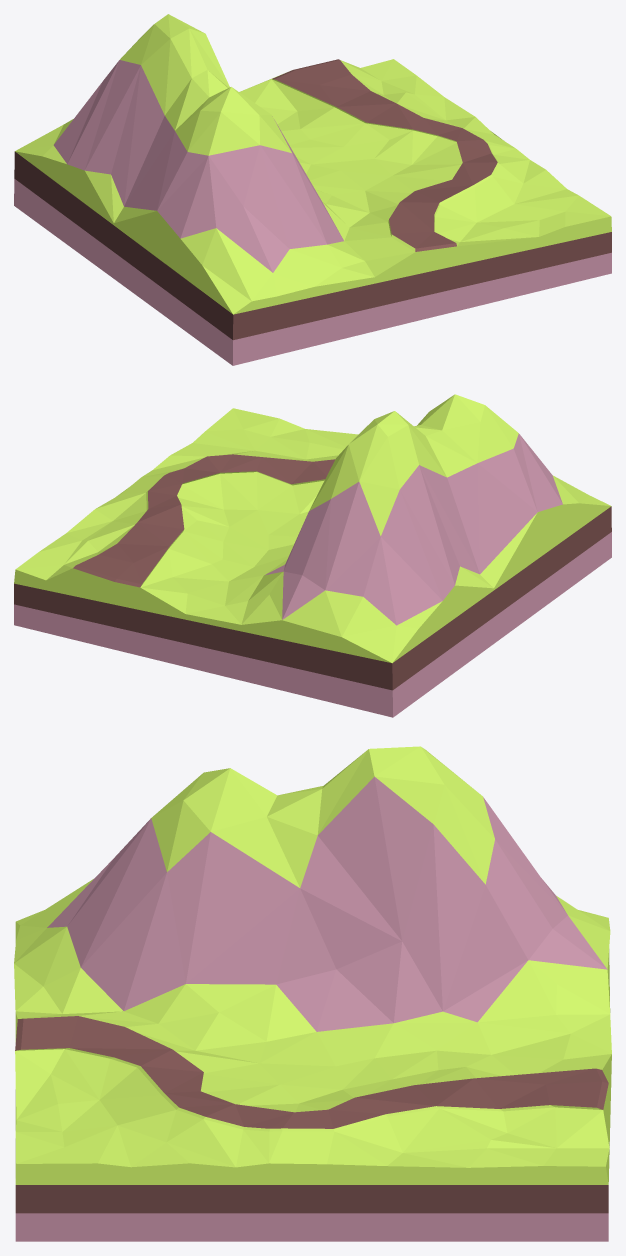
The model's file is landscape tiling attempt.fbx.
3 renders of one model, top to bottom at view 1: azimuth 30°, elevation 25°; view 2: azimuth 150°, elevation 25°; view 3: azimuth 270°, elevation 25°, orthographic. The views are drawn at different scales.
Parts seen in each view (by area): view 1: Plane; view 2: Plane; view 3: Plane.
Part boxes in pixels (left/top/right/bottom): Plane: left=14, top=14, right=611, bottom=365; Plane: left=14, top=394, right=611, bottom=717; Plane: left=14, top=746, right=611, bottom=1241.
Size of the model in its own units: 10066 by 5592 by 10083.
